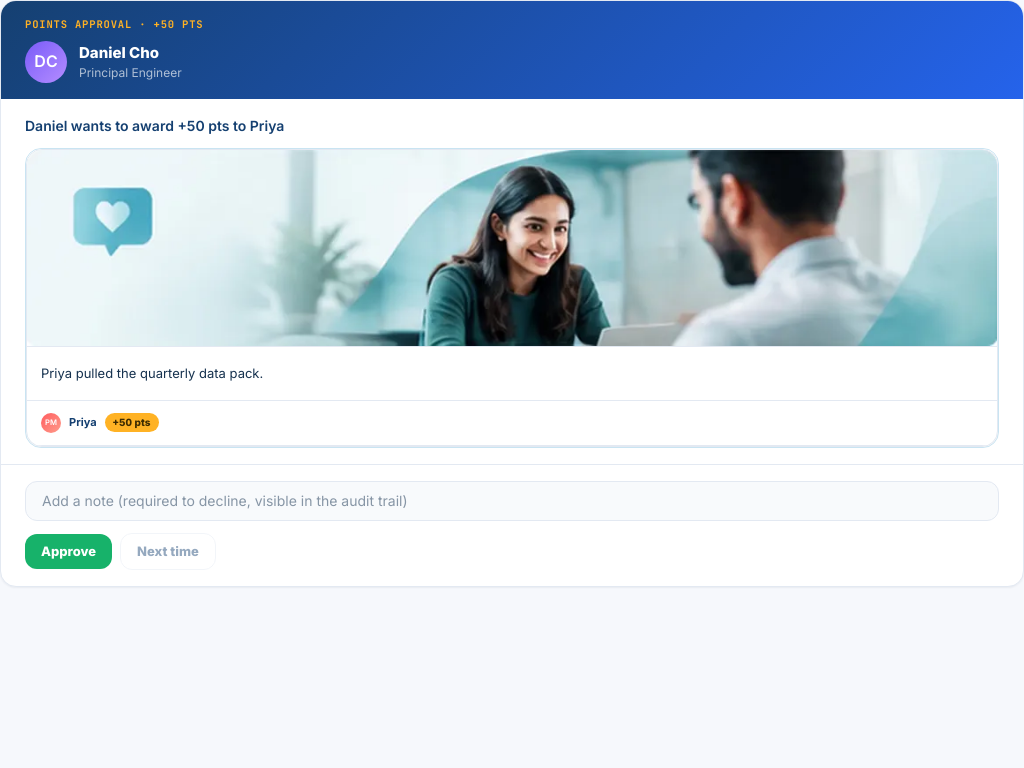
Test: ApprovalDetail — decision-note branches (sir round 1) › keeps Next time disabled until the note has content, then ships it with the verdict
The image size is (1024, 768).
Expected: the button "Approve" is shown, [25, 534, 112, 569]
Expected: the button "Next time" is disabled, [120, 533, 216, 570]
Type "rework the deck" into the field named "Decision note".
click(512, 501); type("rework the deck")  # box [25, 481, 999, 521]
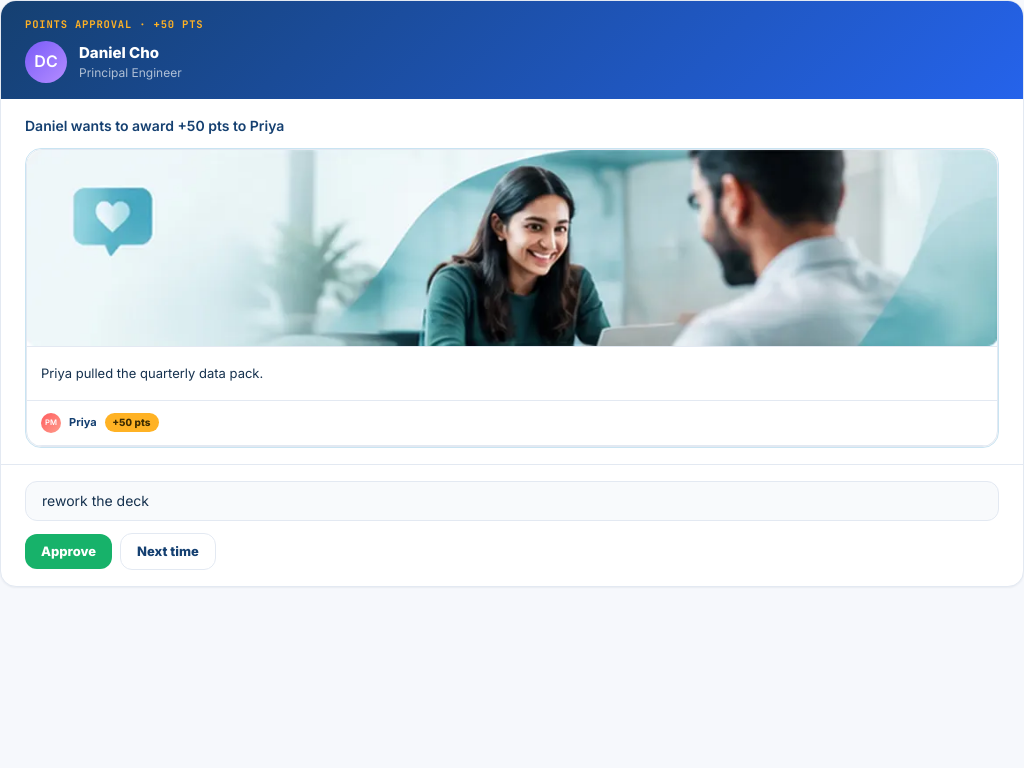
Expected: the button "Next time" is enabled
Click the button "Next time".
click(168, 551)  # box [120, 533, 216, 570]
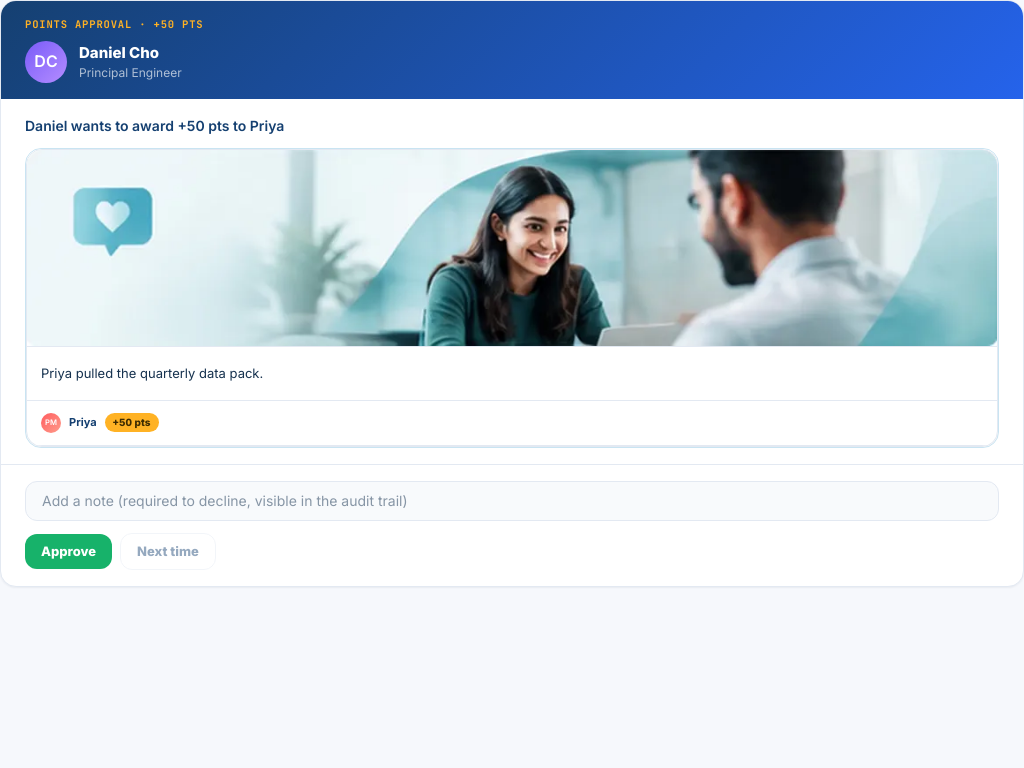
Expected: the field named "Decision note" is empty, [25, 481, 999, 521]
